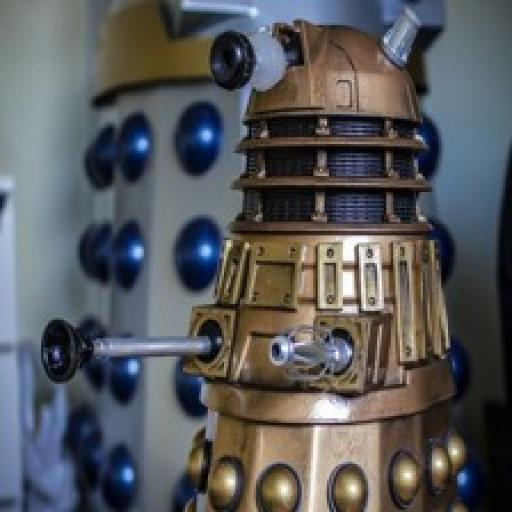dalek: (36, 4, 491, 512)
